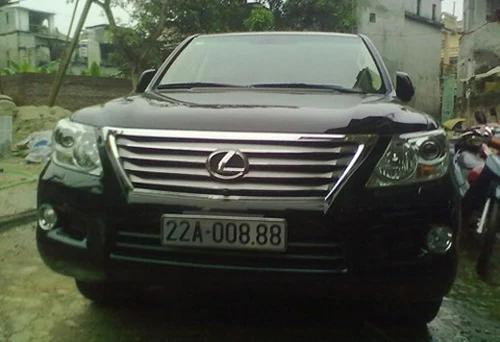numplate: (158, 212, 287, 253)
